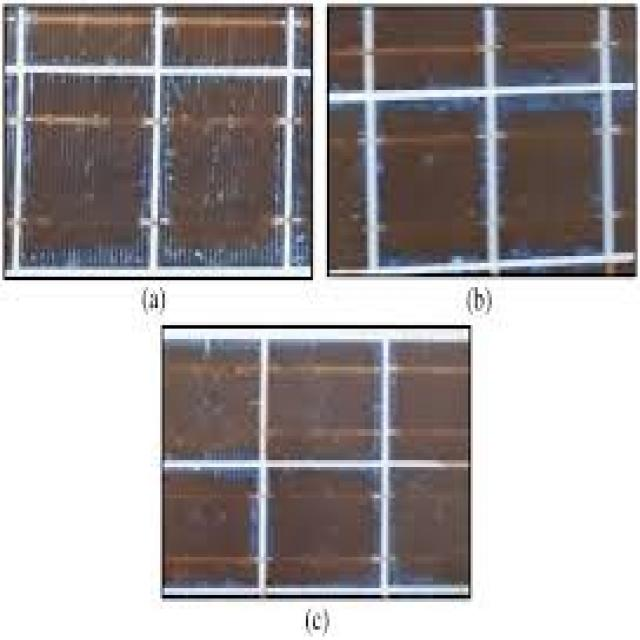faulty: (11, 8, 313, 278), (332, 12, 640, 270), (169, 333, 474, 585)
